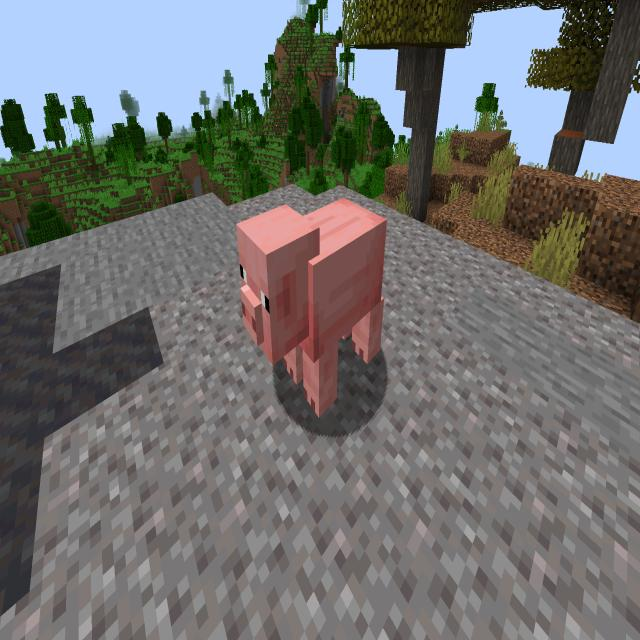pig: (229, 183, 395, 443)
